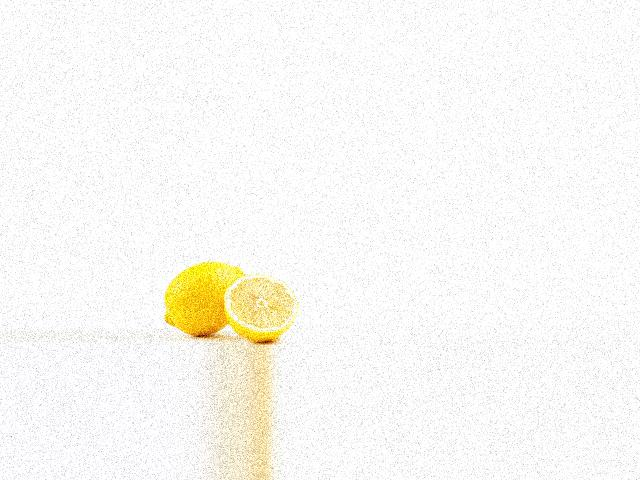lemon: (161, 263, 254, 343)
